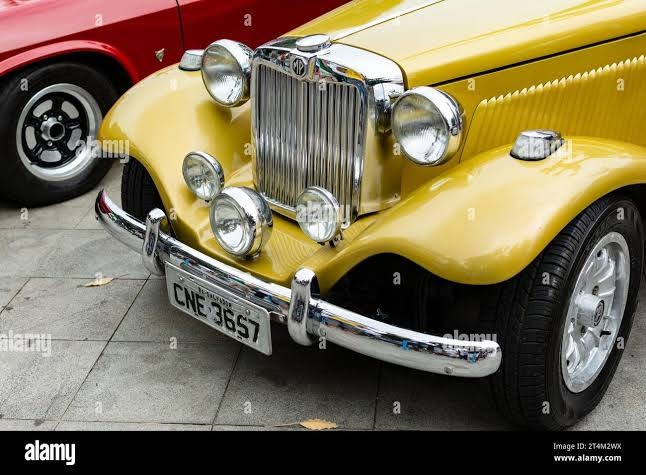car: (49, 1, 646, 406), (56, 1, 646, 405), (6, 6, 263, 205)
